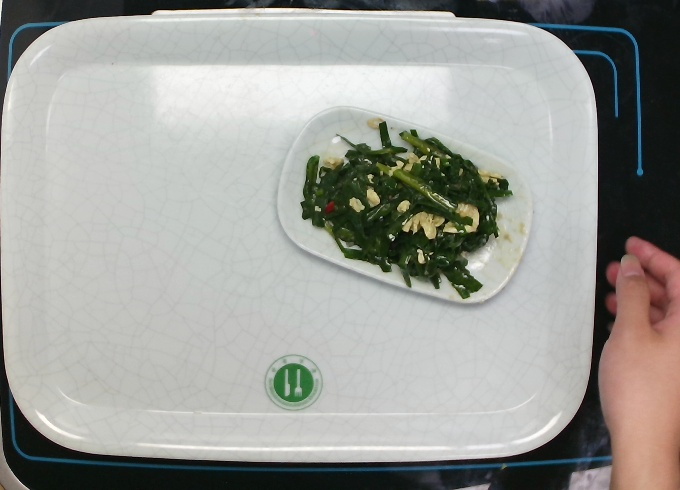WCQzf-Tuo_Yuan_Pan: (276, 104, 534, 306)
